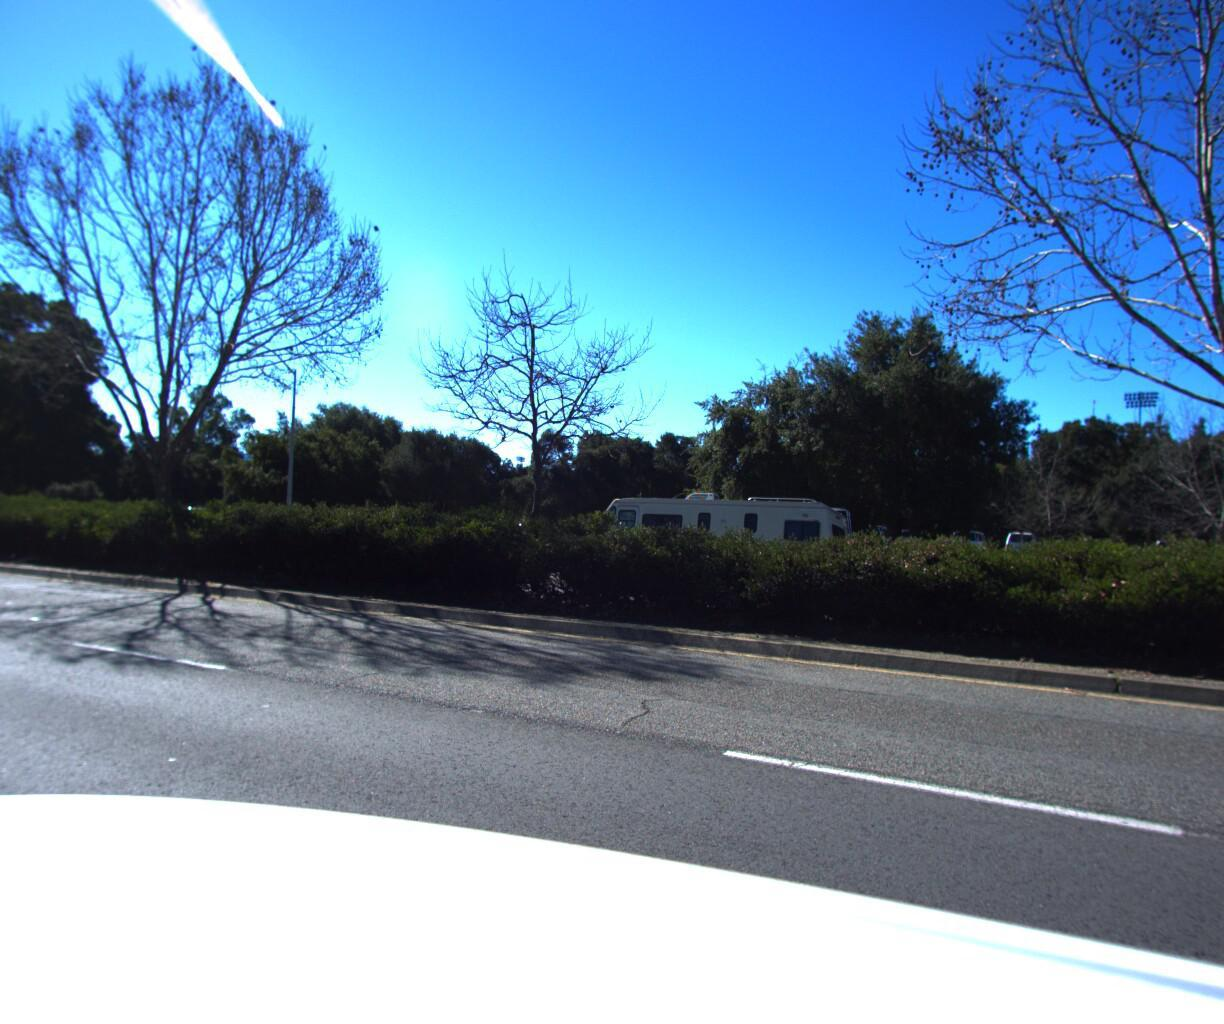other_vehicle: (569, 482, 858, 571)
